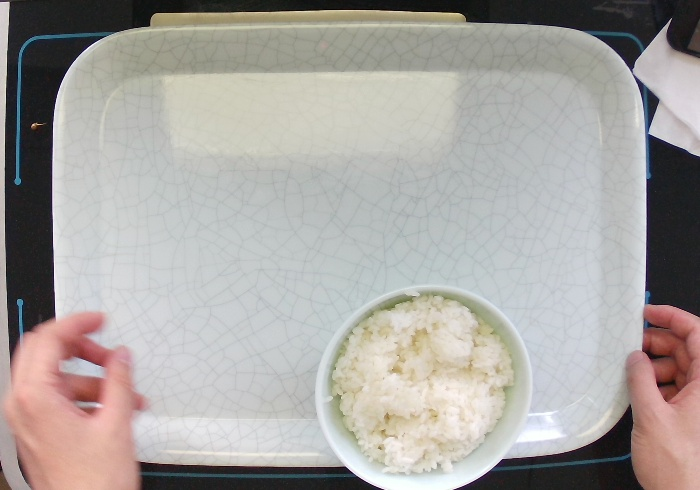JYsf-Fan_Wan: (313, 281, 536, 490)
